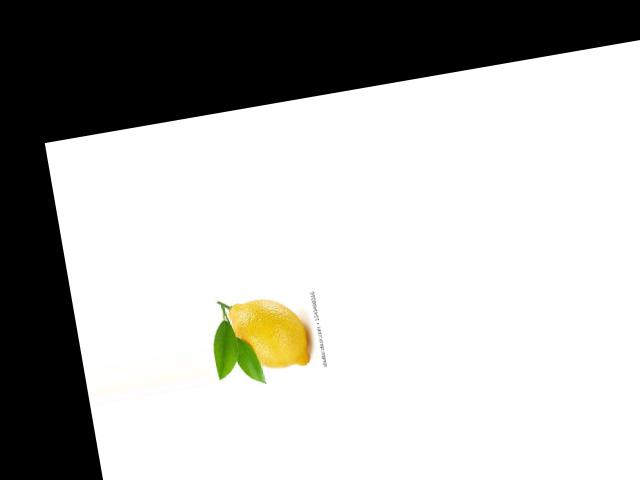lemon: (215, 288, 315, 385)
